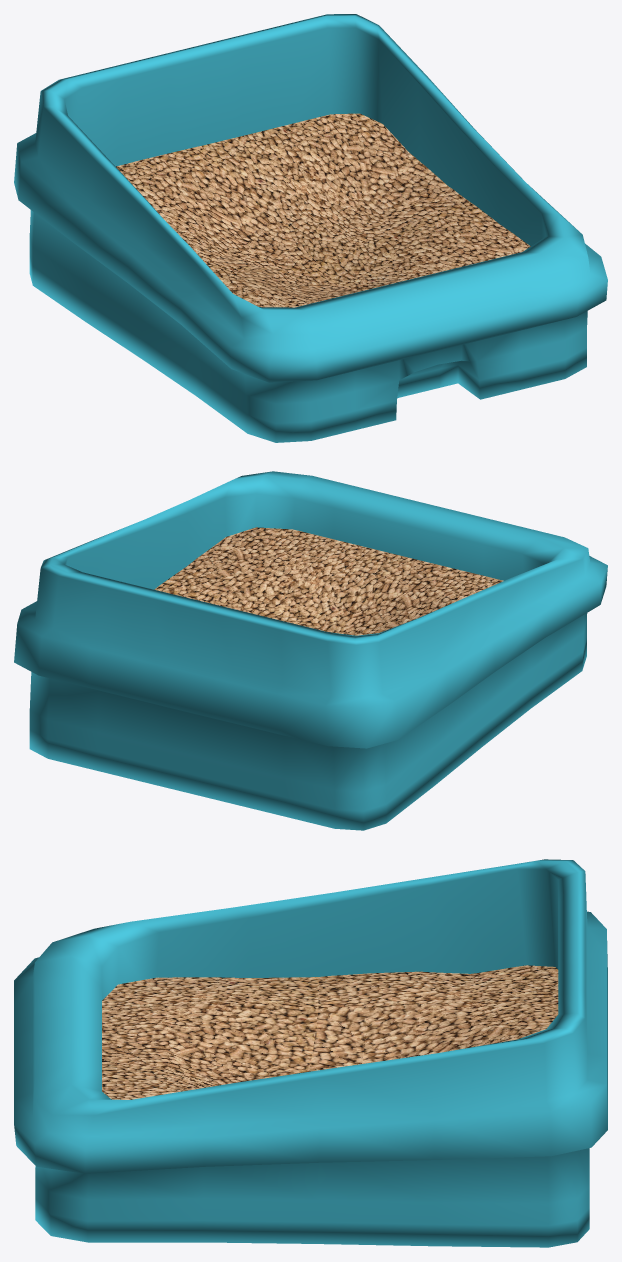
File: Litter Box.fbx
3 views of the same model, one above another, from view 1: azimuth 30°, elevation 25°; view 2: azimuth 150°, elevation 25°; view 3: azimuth 270°, elevation 25° (orthographic). The views are drawn at different scales.
Visible parts, largest first — view 1: polySurface1, pPlane1; view 2: polySurface1, pPlane1; view 3: polySurface1, pPlane1.
Part boxes in pixels (<box>): polySurface1: <box>14,14,607,442</box>; pPlane1: <box>116,113,530,307</box>; polySurface1: <box>14,471,607,830</box>; pPlane1: <box>154,527,503,635</box>; polySurface1: <box>14,859,607,1247</box>; pPlane1: <box>102,965,558,1099</box>.
Size of the model in its own units: 6.24 by 2.91 by 7.53.
Materials: 2 (2 with a texture image).
